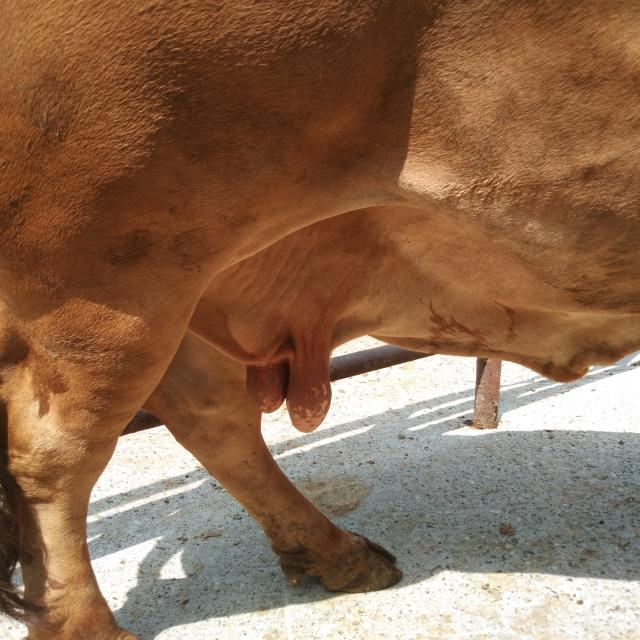Hoof: (277, 529, 403, 594)
